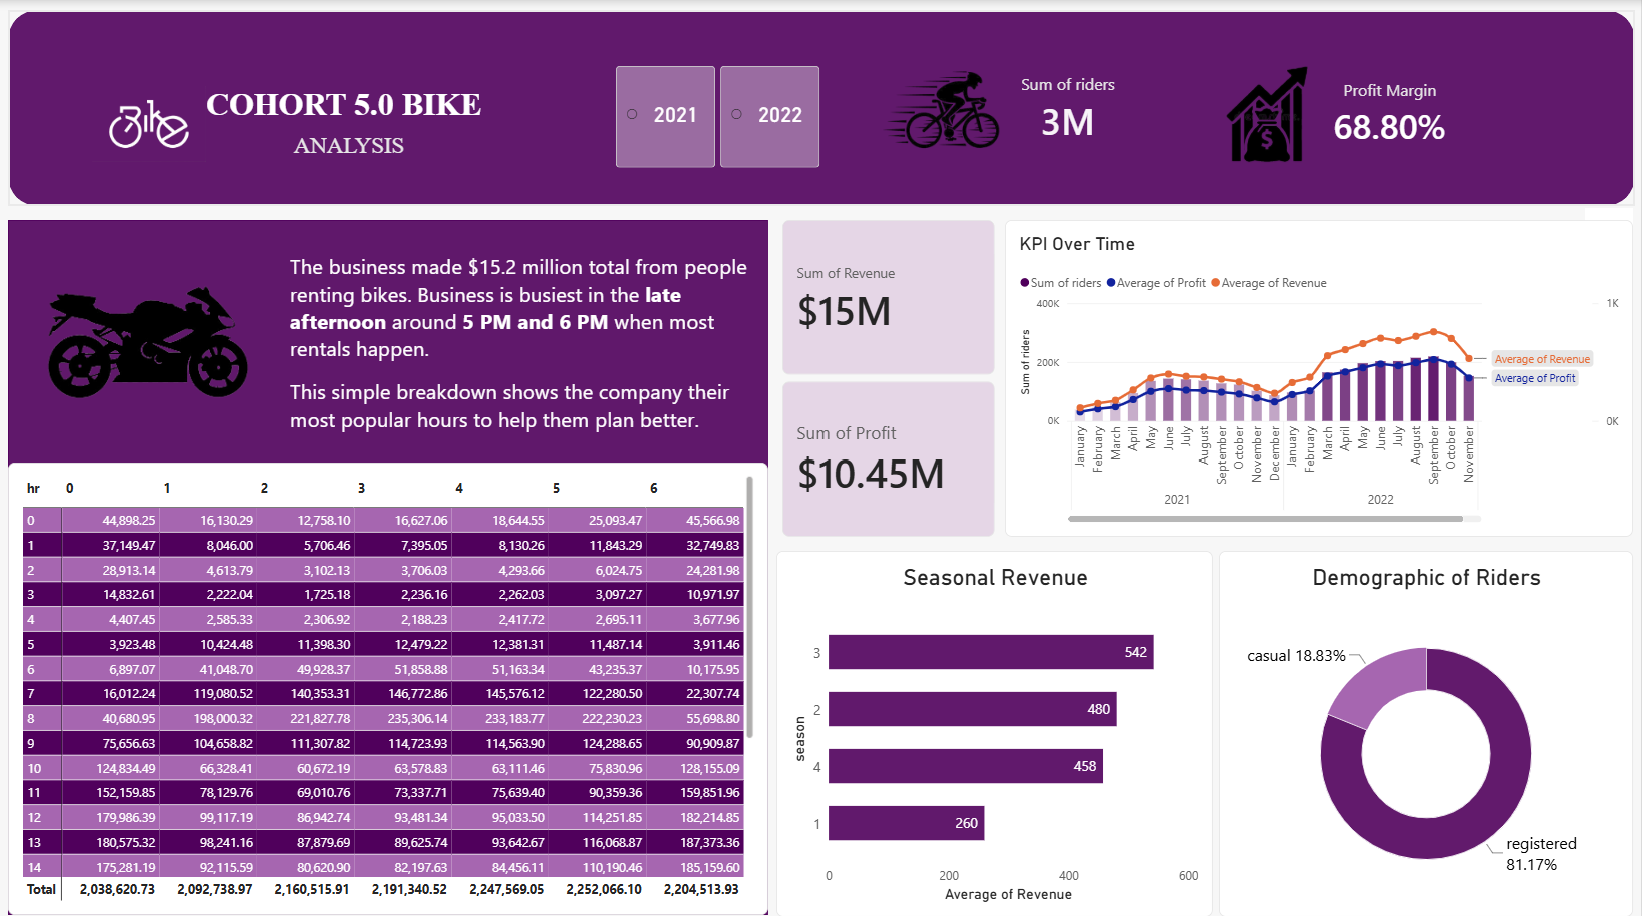

The dashboard page shown, as its layout file describes it:
{"tool":"powerbi","page":{"name":"Page 1","canvas":[1920,1080],"ordinal":0},"visuals":[{"type":"shape","box":[9.4,11.7,1904.6,229.6],"z":0},{"type":"shape","box":[9.4,257.7,890.2,812.9],"z":1000},{"type":"pivotTable","fields":{"Columns":["Query.weekday"],"Rows":["Query.hr"],"Values":["Sum(Query.Revenue)"]},"box":[9.4,541.2,890.2,529.5],"z":2000},{"type":"cardVisual","fields":{"Data":["Sum(Query.Revenue)","Sum(Query.Profit)"]},"box":[916,257.7,248.3,370.2],"z":3000},{"type":"barChart","title":"Seasonal Revenue","fields":{"Category":["Query.season"],"Y":["Avg(Query.Revenue)"]},"box":[909,644.3,510.7,428.7],"z":4000},{"type":"donutChart","title":"Demographic of Riders","fields":{"Category":["Query.rider_type"],"Y":["Sum(Query.riders)"]},"box":[1426.7,644.3,484.9,428.7],"z":5000},{"type":"lineClusteredColumnComboChart","title":"KPI Over Time","fields":{"Category":["Query.dteday.Variation.Date Hierarchy.Year","Query.dteday.Variation.Date Hierarchy.Month","Query.dteday.Variation.Date Hierarchy.Day"],"Y":["Sum(Query.riders)"],"Y2":["Avg(Query.Profit)","Avg(Query.Revenue)"]},"box":[1176.1,257.7,735.6,370.2],"z":6000},{"type":"textbox","box":[339.7,295.2,538.8,210.8],"z":7000},{"type":"cardVisual","fields":{"Data":["Sum(Query.riders)"]},"box":[1164.3,42.2,171,171],"z":8000},{"type":"cardVisual","fields":{"Data":["Query.Profit Margin"]},"box":[1543.9,53.9,166.3,159.3],"z":9000},{"type":"image","box":[1009.7,39.8,182.7,178],"z":10000},{"type":"image","box":[53.9,274.1,239,253],"z":11000},{"type":"image","box":[1382.2,44.5,201.5,178],"z":12000},{"type":"image","box":[107.8,77.3,133.5,135.9],"z":12001},{"type":"textbox","box":[241.3,100.7,332.7,51.5],"z":12002},{"type":"textbox","box":[325.6,154.6,166.3,35.1],"z":12003},{"type":"advancedSlicerVisual","fields":{"Values":["Query.yr"]},"box":[721.6,77.3,239,119.5],"z":12004}]}

Visuals, with their boxes in screenshot pixels (x1, y1, x2, y2), scaled from the page's 1920x1080 canvas onto the 1642x916 screenshot:
shape: (left=8, top=10, right=1637, bottom=205)
shape: (left=8, top=219, right=769, bottom=908)
pivotTable - Query.weekday x Query.hr: (left=8, top=459, right=769, bottom=908)
cardVisual - Sum(Query.Revenue) x Sum(Query.Profit): (left=783, top=219, right=996, bottom=533)
"Seasonal Revenue" barChart: (left=777, top=546, right=1214, bottom=910)
"Demographic of Riders" donutChart: (left=1220, top=546, right=1635, bottom=910)
"KPI Over Time" lineClusteredColumnComboChart: (left=1006, top=219, right=1635, bottom=533)
textbox: (left=291, top=250, right=751, bottom=429)
cardVisual - Sum(Query.riders): (left=996, top=36, right=1142, bottom=181)
cardVisual - Query.Profit Margin: (left=1320, top=46, right=1463, bottom=181)
image: (left=864, top=34, right=1020, bottom=185)
image: (left=46, top=232, right=250, bottom=447)
image: (left=1182, top=38, right=1354, bottom=189)
image: (left=92, top=66, right=206, bottom=181)
textbox: (left=206, top=85, right=491, bottom=129)
textbox: (left=278, top=131, right=421, bottom=161)
advancedSlicerVisual - Query.yr: (left=617, top=66, right=822, bottom=167)
